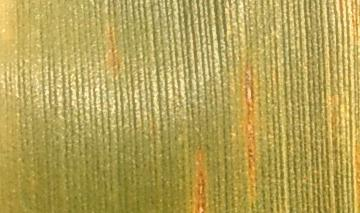tarspot: (247, 153, 255, 159), (246, 147, 254, 152)
